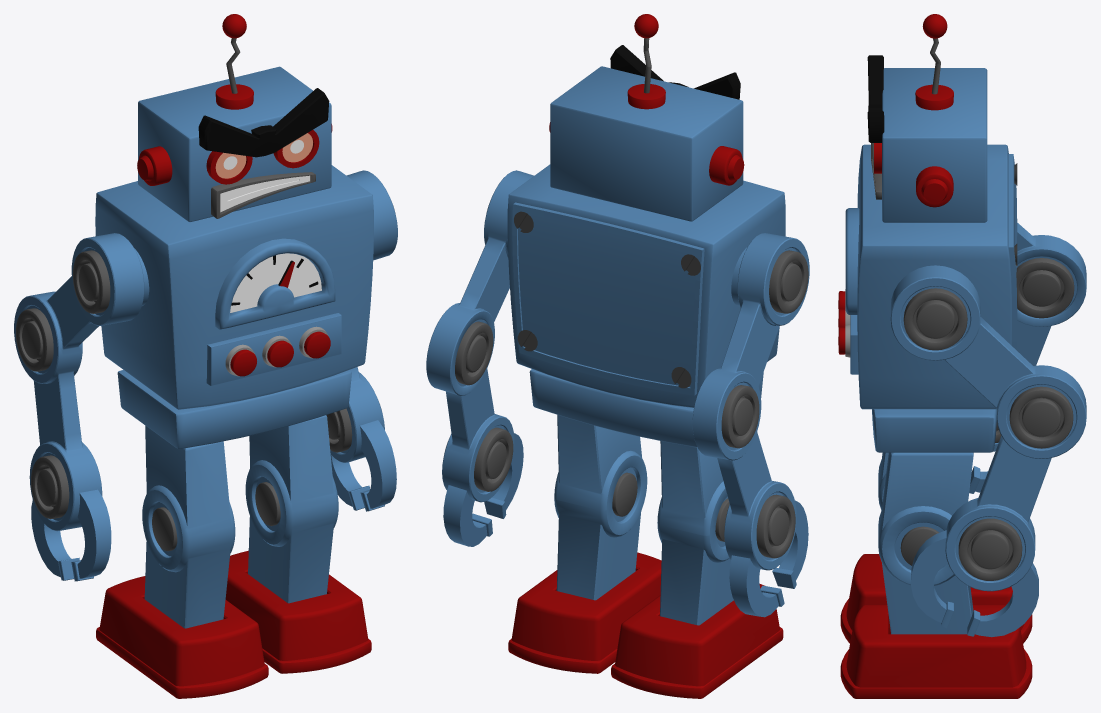
Rendered from Robot.FBX.
3 views of the same model, side by side, from view 1: azimuth 30°, elevation 25°; view 2: azimuth 150°, elevation 25°; view 3: azimuth 270°, elevation 25° (orthographic).
Visible parts, largest first — view 1: ChamferBox003, Box085, Sphere025, BrasGauche, BrasDroit; view 2: ChamferBox003, Box085, Sphere025, BrasGauche, BrasDroit; view 3: ChamferBox003, BrasDroit, Box085, Sphere025, BrasGauche.
Part boxes in pixels (left/top/right/bottom): ChamferBox003: left=96, top=369, right=371, bottom=698; Box085: left=95, top=165, right=373, bottom=409; Sphere025: left=137, top=14, right=332, bottom=222; BrasGauche: left=14, top=233, right=149, bottom=581; BrasDroit: left=326, top=170, right=397, bottom=511; ChamferBox003: left=508, top=369, right=783, bottom=698; Box085: left=507, top=164, right=785, bottom=407; Sphere025: left=549, top=14, right=744, bottom=221; BrasGauche: left=692, top=233, right=809, bottom=617; BrasDroit: left=426, top=170, right=533, bottom=546; ChamferBox003: left=840, top=409, right=1032, bottom=698; BrasDroit: left=890, top=265, right=1086, bottom=637; Box085: left=838, top=144, right=1017, bottom=409; Sphere025: left=867, top=14, right=987, bottom=222; BrasGauche: left=969, top=223, right=1086, bottom=493.
Bounding box in the file's own units: 1254 × 2312 × 817.
